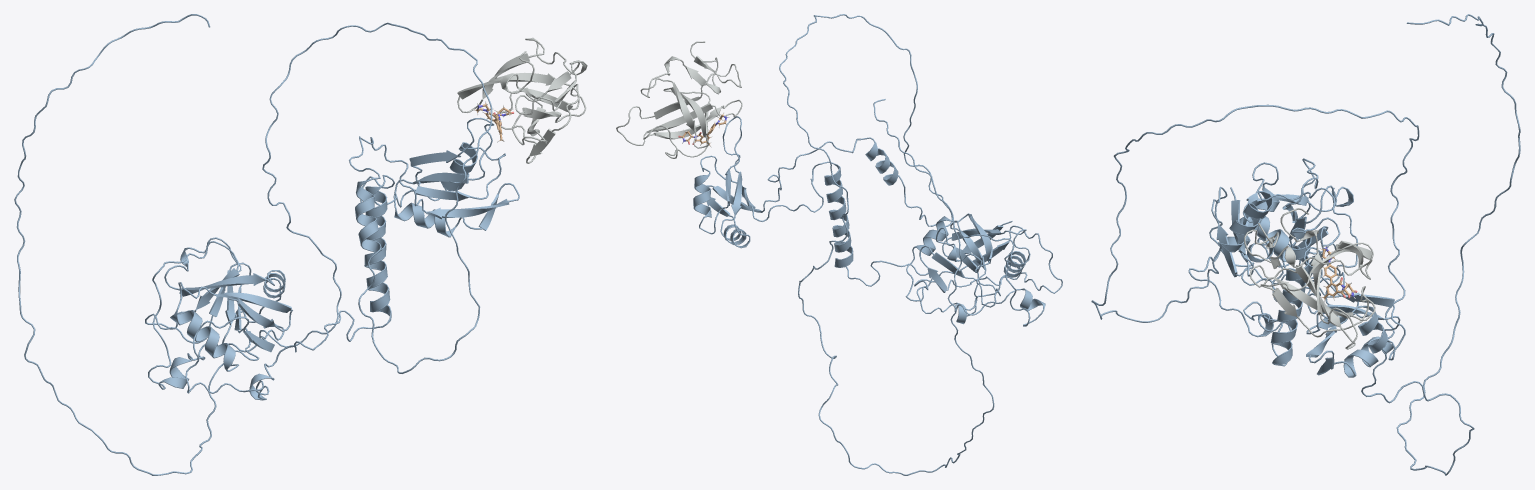
3 renders of one model, left to right at view 1: azimuth 30°, elevation 25°; view 2: azimuth 150°, elevation 25°; view 3: azimuth 270°, elevation 25°, orthographic. The views are drawn at different scales.
Parts seen in each view (by area): view 1: node-geom100, node-geom101; view 2: node-geom100, node-geom101; view 3: node-geom100, node-geom101.
Boxes of the visible parts, x1,y1,x2,y2 form: node-geom100: (145, 38, 587, 400); node-geom101: (14, 14, 519, 475); node-geom100: (616, 41, 1062, 326); node-geom101: (693, 14, 994, 475); node-geom100: (1188, 158, 1375, 366); node-geom101: (1091, 14, 1520, 475).
Bounding box in the file's own units: 136 × 114 × 96.99.
